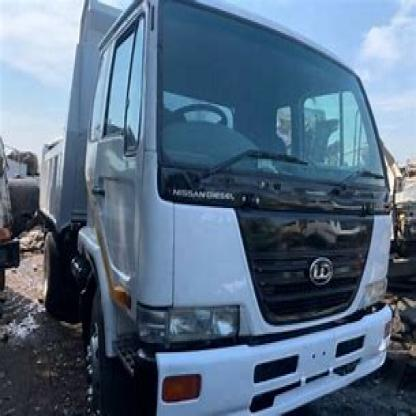dump_truck: (33, 4, 401, 414)
